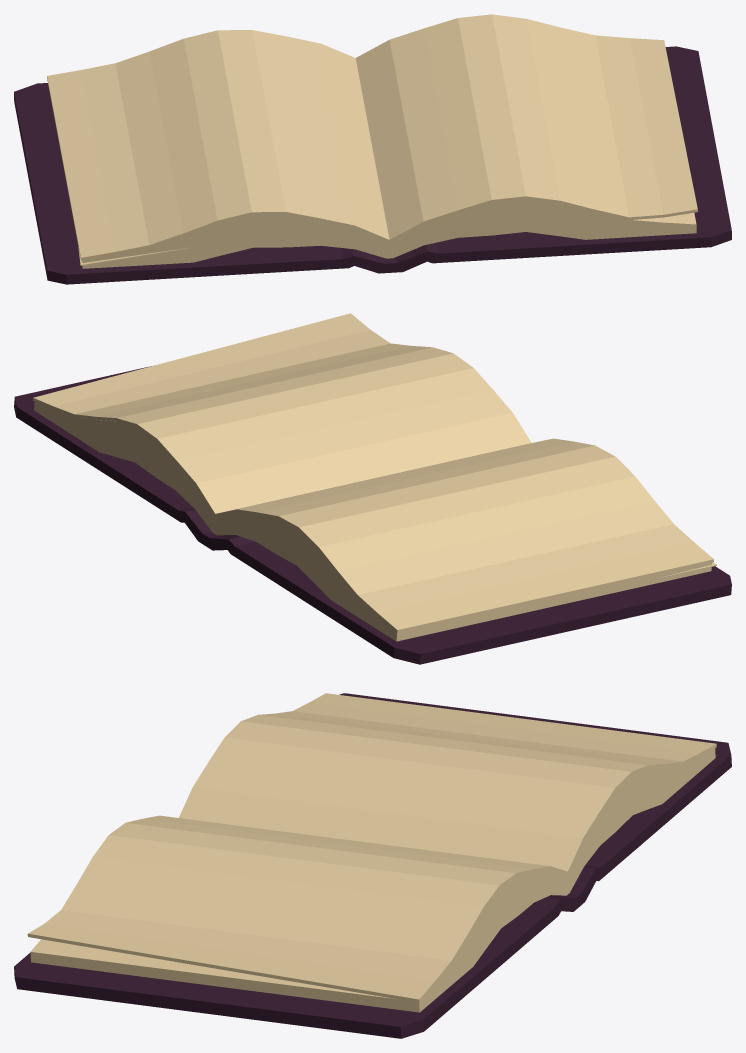
File: BookCupboard.fbx
3 views of the same model, one above another, from view 1: azimuth 30°, elevation 25°; view 2: azimuth 150°, elevation 25°; view 3: azimuth 270°, elevation 25° (orthographic). The views are drawn at different scales.
Visible parts, largest first — view 1: BookCupboard; view 2: BookCupboard; view 3: BookCupboard.
Part boxes in pixels (left/top/right/bottom): BookCupboard: left=14, top=14, right=731, bottom=284; BookCupboard: left=14, top=313, right=731, bottom=664; BookCupboard: left=14, top=693, right=731, bottom=1038.
Size of the model in its own units: 95.07 by 12.44 by 76.77.
